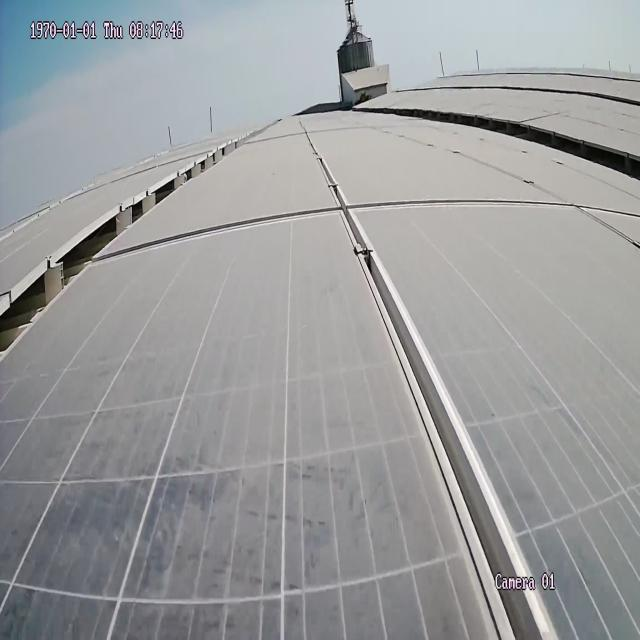interior panel: (309, 148, 546, 630), (122, 198, 596, 266)
outher panel: (1, 138, 239, 368), (380, 112, 631, 184)
